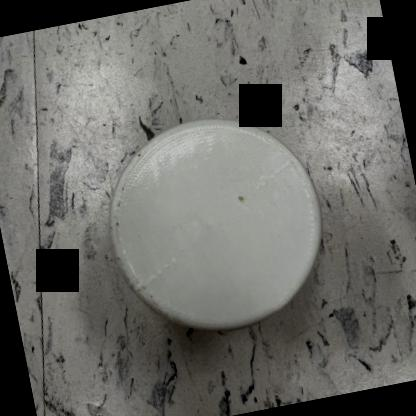white cylinder: (87, 93, 346, 354)
